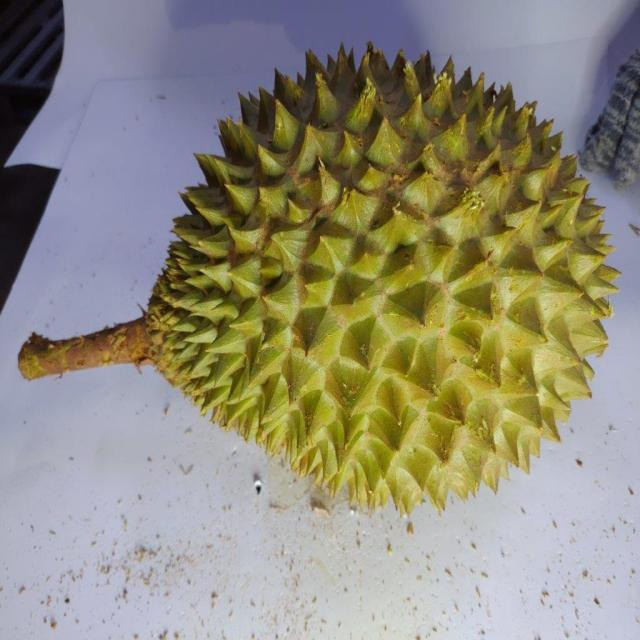immature: (149, 32, 621, 519)
